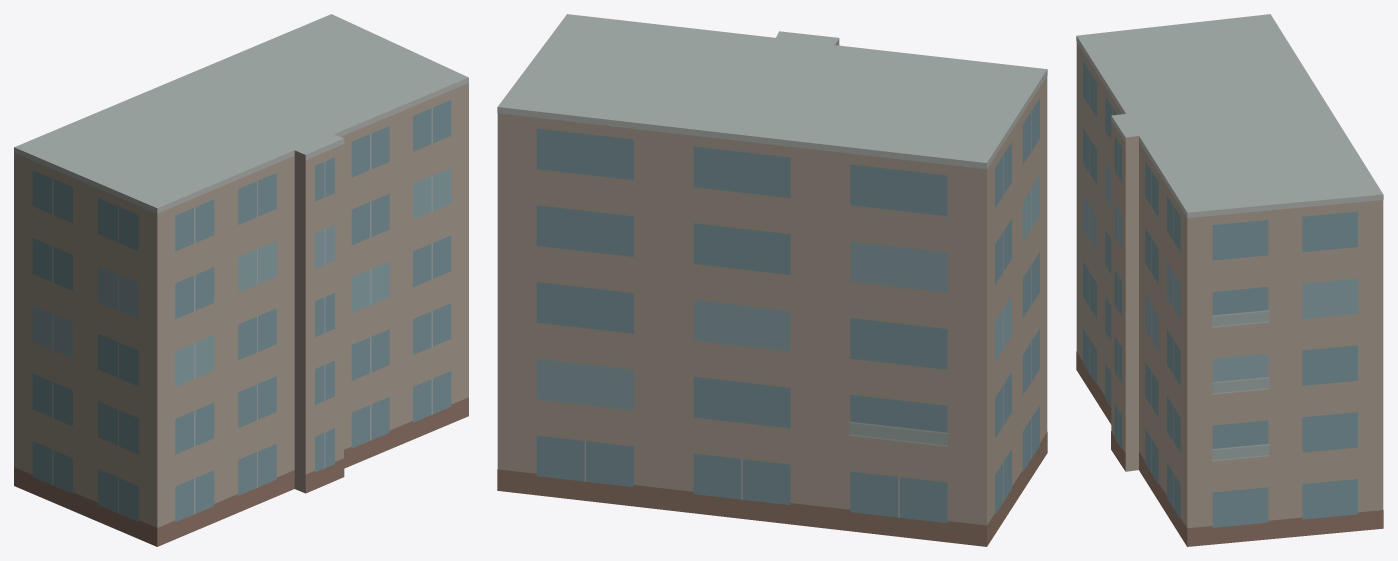
Rendered from survey-upis-32767948.glb.
The picture shows the model from 3 angles, left to right: view 1: azimuth 30°, elevation 25°; view 2: azimuth 150°, elevation 25°; view 3: azimuth 270°, elevation 25°; orthographic projection. The views are drawn at different scales.
Parts seen in each view (by area): view 1: survey-upis-32767948.tmp; view 2: survey-upis-32767948.tmp; view 3: survey-upis-32767948.tmp.
Part boxes in pixels (box(x1,y1,x2,y2)): survey-upis-32767948.tmp: box(14, 14, 468, 546); survey-upis-32767948.tmp: box(497, 14, 1047, 546); survey-upis-32767948.tmp: box(1076, 14, 1383, 546).
Bounding box in the file's own units: 19.14 × 15 × 12.5.
